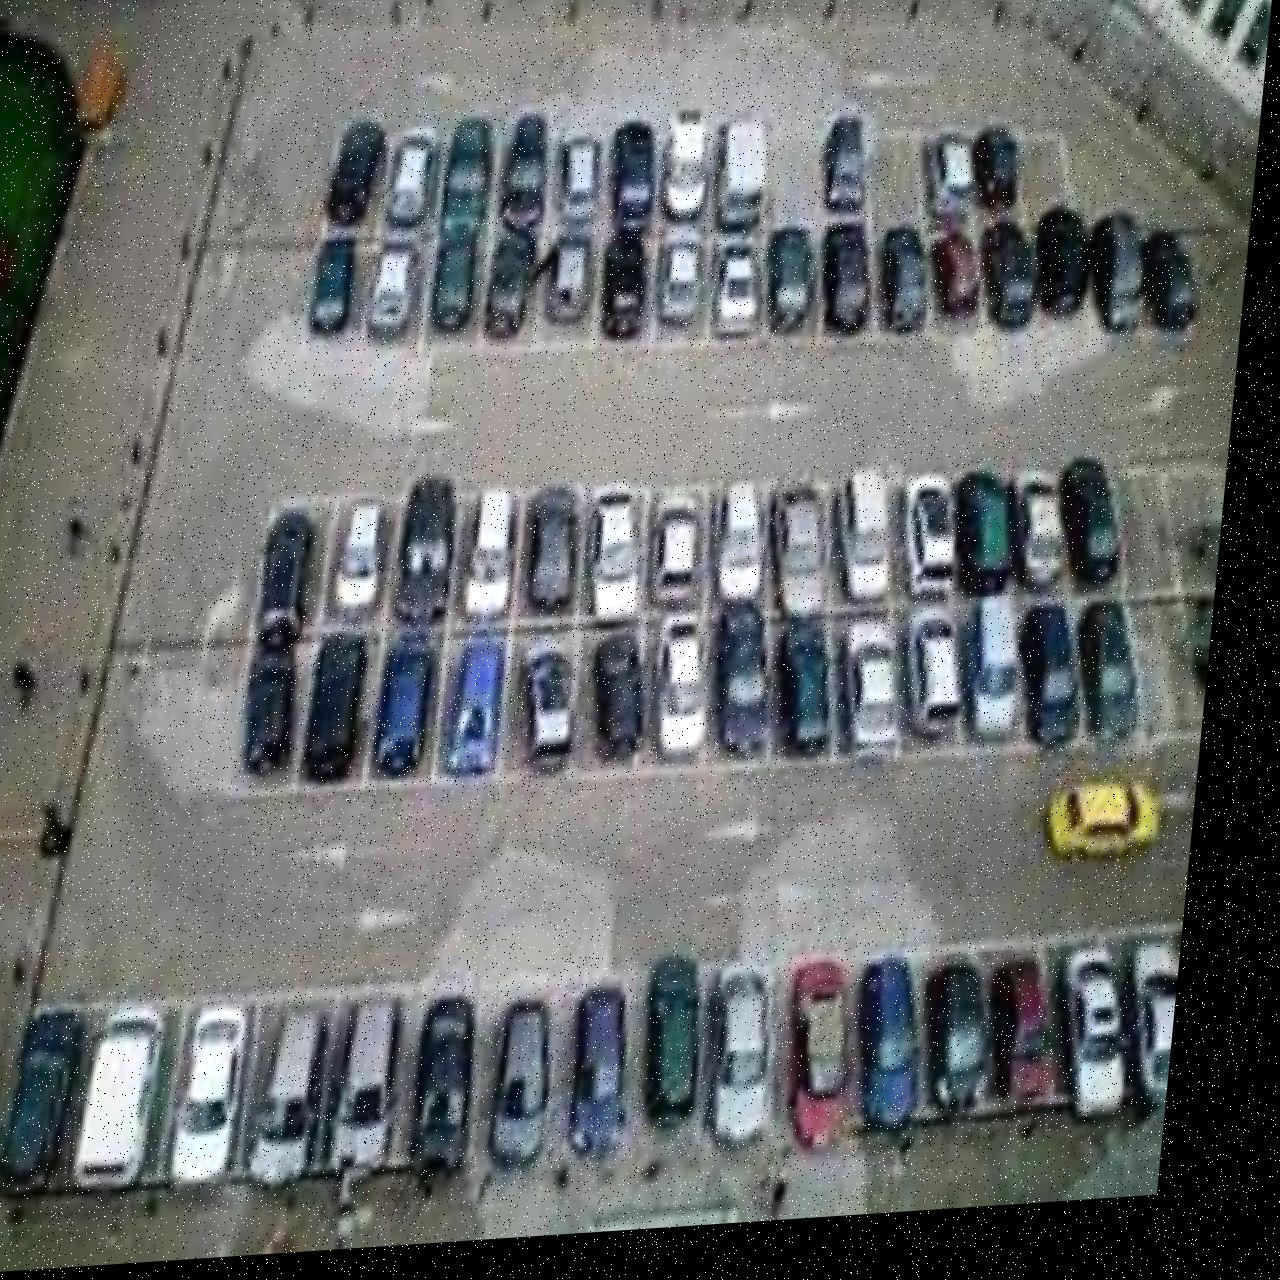car: (93, 1006, 189, 1194), (16, 1007, 105, 1197), (799, 971, 884, 1160), (1073, 959, 1160, 1139), (266, 1012, 349, 1193), (723, 975, 804, 1159), (870, 966, 951, 1145), (191, 1008, 271, 1190), (430, 1001, 502, 1186), (352, 1001, 427, 1177), (940, 974, 1023, 1128), (659, 964, 730, 1137), (587, 994, 658, 1169), (720, 608, 796, 769), (1083, 613, 1166, 758), (1026, 615, 1105, 765), (509, 1008, 579, 1177), (1006, 969, 1082, 1123), (843, 627, 924, 764), (316, 638, 388, 790), (660, 620, 733, 769), (1063, 469, 1142, 606), (1063, 789, 1185, 876), (782, 629, 855, 775), (384, 635, 455, 784), (402, 482, 471, 631), (593, 491, 663, 636), (973, 611, 1043, 755), (842, 478, 914, 615), (529, 641, 598, 784), (455, 645, 524, 788), (911, 619, 983, 755), (959, 483, 1034, 611), (778, 496, 847, 633), (599, 639, 670, 771), (1148, 955, 1203, 1122), (908, 483, 976, 617), (717, 490, 788, 614), (253, 647, 318, 782), (1089, 226, 1158, 352), (265, 517, 327, 654), (1019, 485, 1088, 608), (533, 492, 597, 621), (471, 495, 530, 628), (1141, 241, 1211, 348), (1037, 219, 1103, 333), (985, 232, 1048, 347), (659, 502, 721, 617), (442, 122, 499, 246), (822, 234, 883, 349), (715, 127, 775, 241), (501, 121, 557, 243), (660, 116, 719, 231), (880, 237, 939, 350), (345, 506, 400, 622), (329, 123, 389, 230), (604, 239, 660, 350), (770, 232, 823, 347), (611, 127, 666, 236), (490, 240, 545, 349), (715, 248, 772, 347), (922, 144, 985, 234), (551, 231, 604, 334), (370, 245, 425, 343), (557, 135, 610, 236), (434, 240, 485, 339), (387, 136, 440, 231), (824, 125, 874, 224), (933, 244, 989, 332), (316, 240, 365, 341), (974, 138, 1028, 227), (660, 244, 710, 336)
